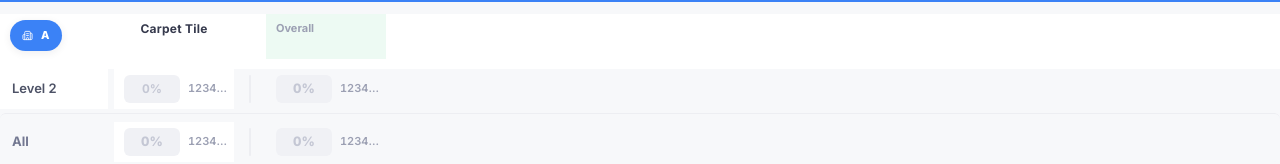
it: LevelScopeReportGrid › truncated unit counts › shows a click tooltip with the full value on mobile
Click the 1st button "12345/12": (210, 89) 188,80 -> 232,97
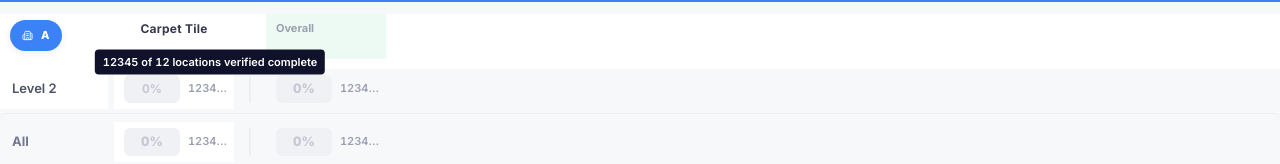
expect the tooltip reads "12345 of 12 locations verified complete": met, box 103,55 -> 317,69
